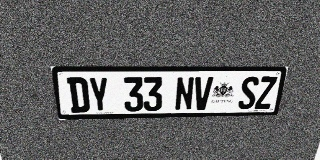3: (124, 77, 143, 112), (144, 77, 163, 111)
D: (67, 77, 90, 113)
N: (175, 77, 195, 111)
S: (237, 76, 260, 109)
V: (193, 77, 213, 110)
Y: (88, 77, 110, 112)
Z: (254, 76, 278, 109)
